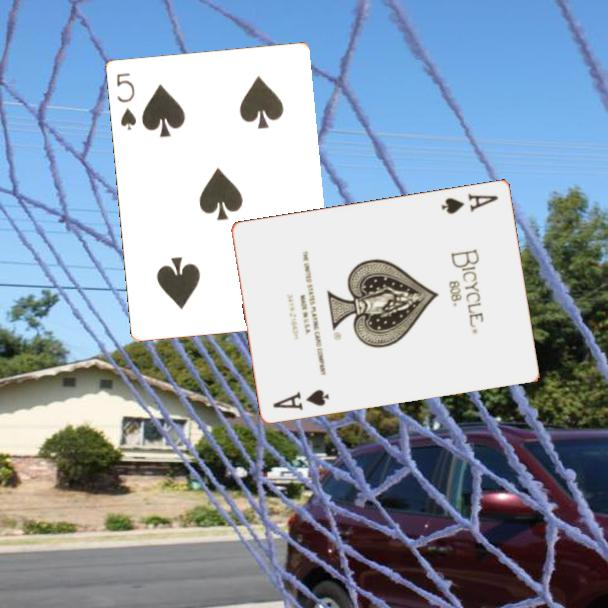s01: (438, 189, 501, 217), (269, 386, 332, 413)
s05: (112, 69, 139, 133)
